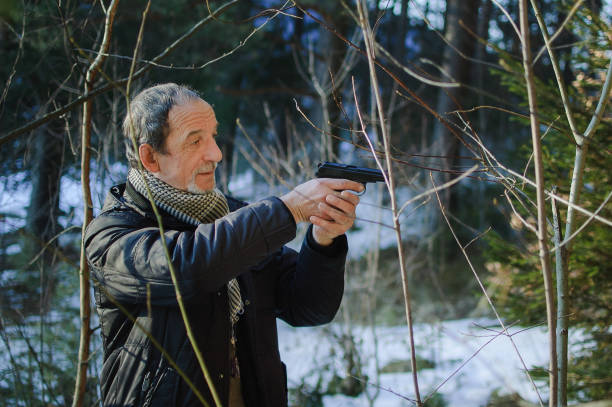gun: (313, 160, 387, 195)
